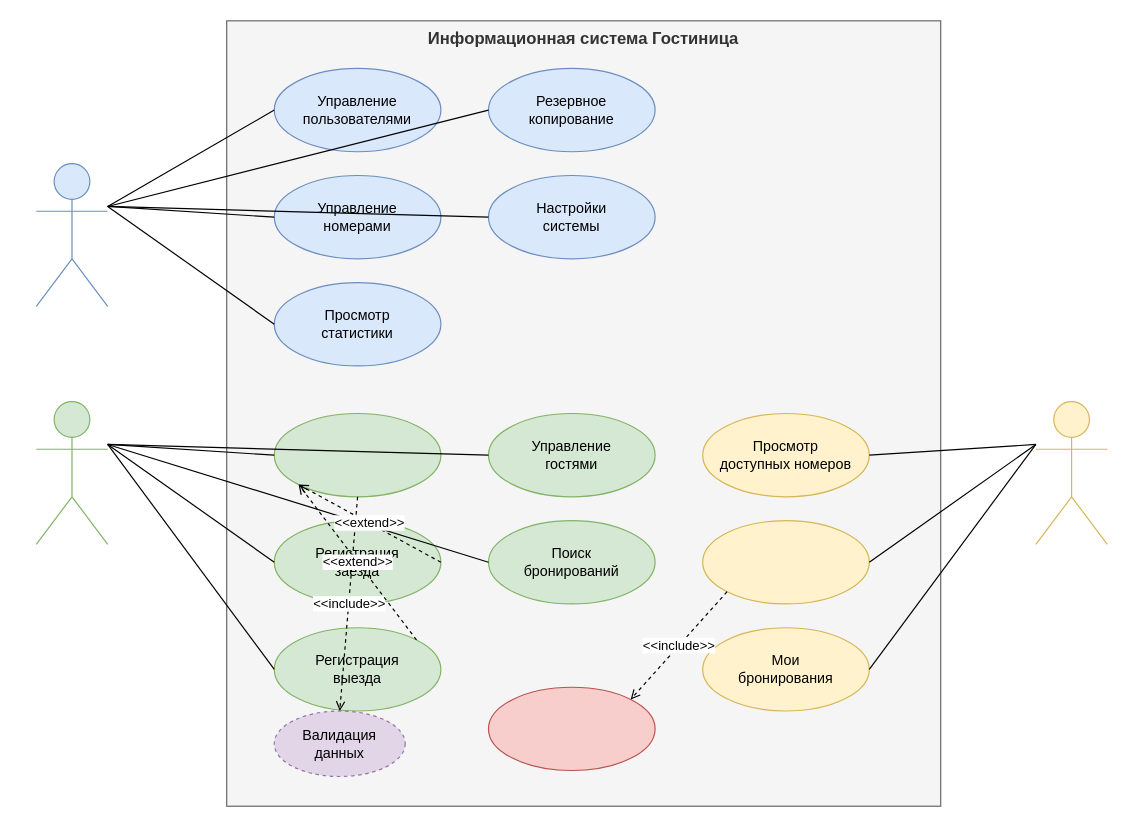
The diagram is 1128 pixels wide and 827 high, and some of its shapes have lost their labels. Here are the shapes that lost their labels. From the top down, the centre of each, then its label:
the point at 71,234: Администратор
the point at 71,472: Менеджер
the point at 357,454: Управление бронированиями
the point at 1071,472: Гость
the point at 785,561: Создание бронирования
the point at 571,728: Вход в систему
